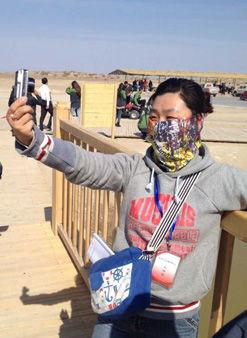OK: (149, 102, 190, 156)
